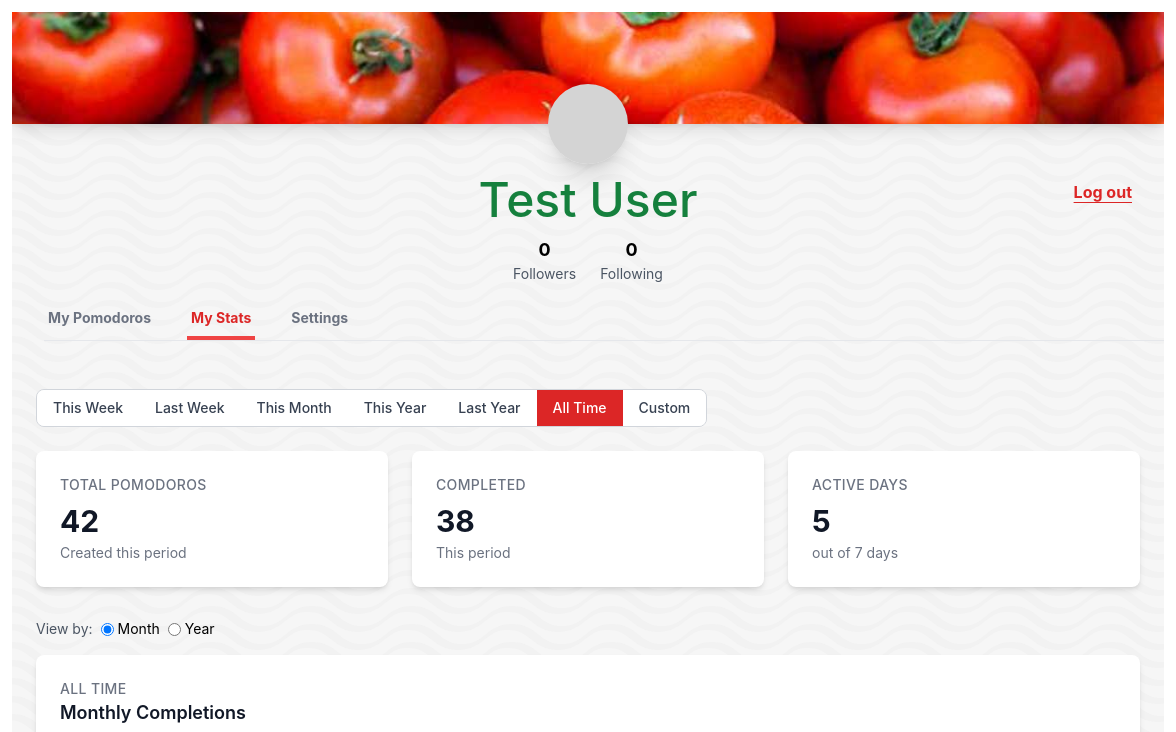
Test: UserStats Component › URL Parameter Handling › supports year view toggle for all-time
The image size is (1176, 732).
Expected: the heading "Monthly Completions" is shown, x1=60 y1=702 x2=246 y2=723
Switch to year view
Click the radio button with aria-label "view by year". click: (174, 629)
box: x1=168 y1=622 x2=181 y2=636
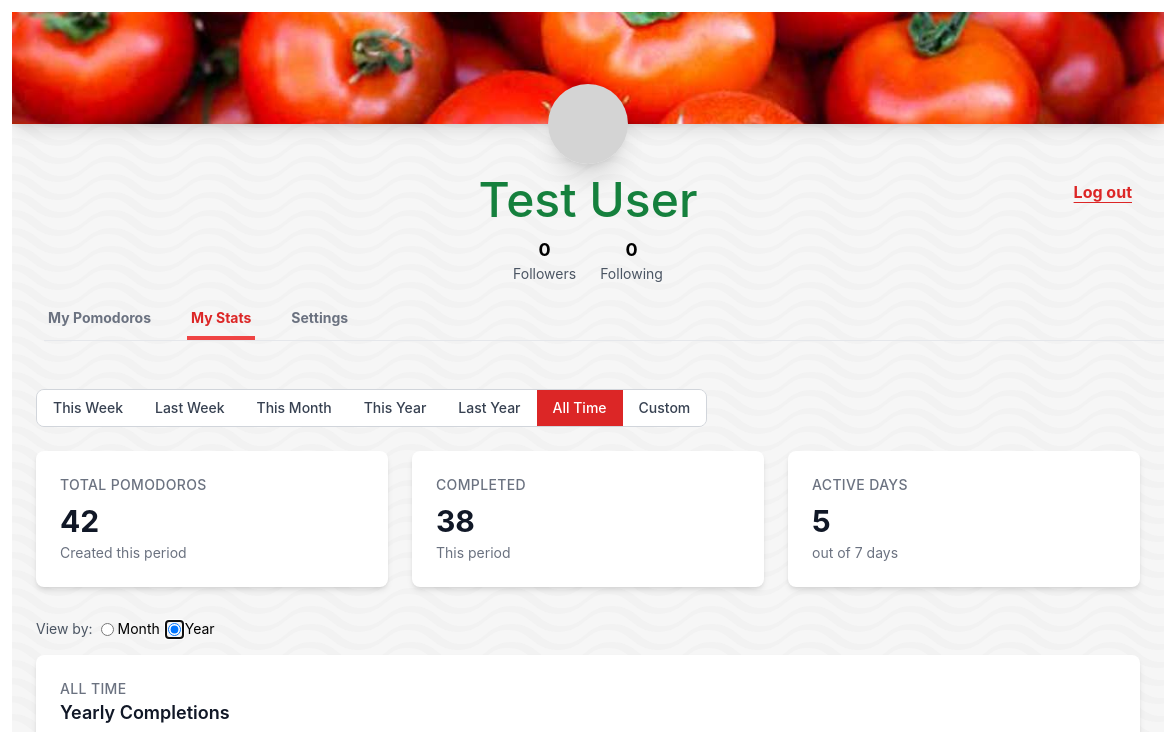
Expected: the heading "Yearly Completions" is shown, x1=60 y1=702 x2=230 y2=723
